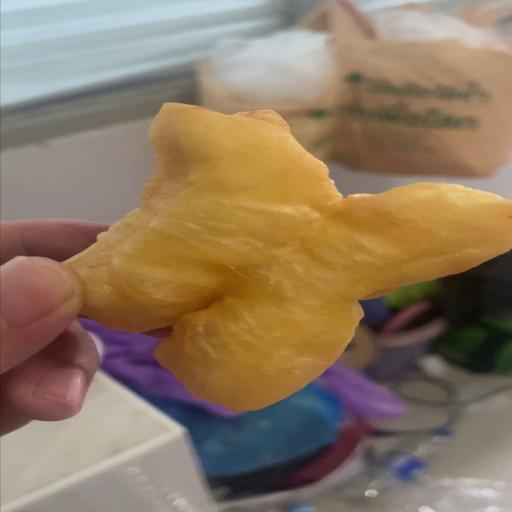street_golden_good: (66, 103, 512, 411)
